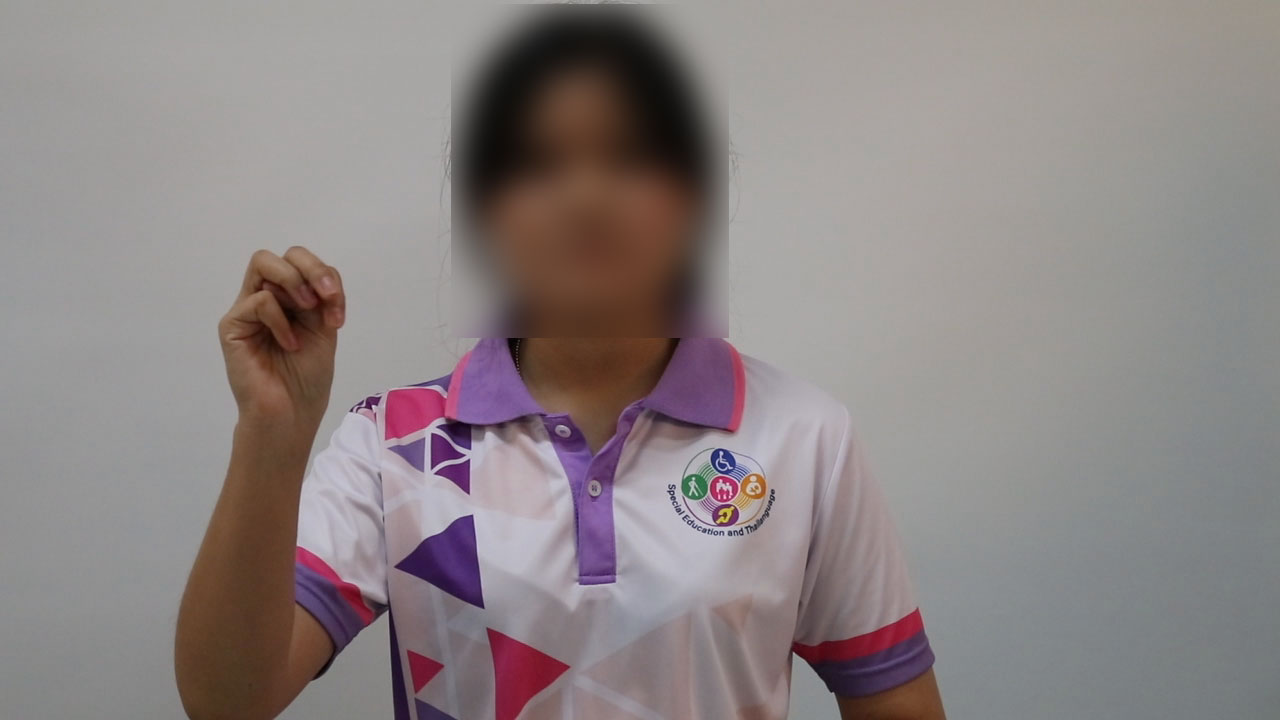mor: (204, 228, 359, 459)
